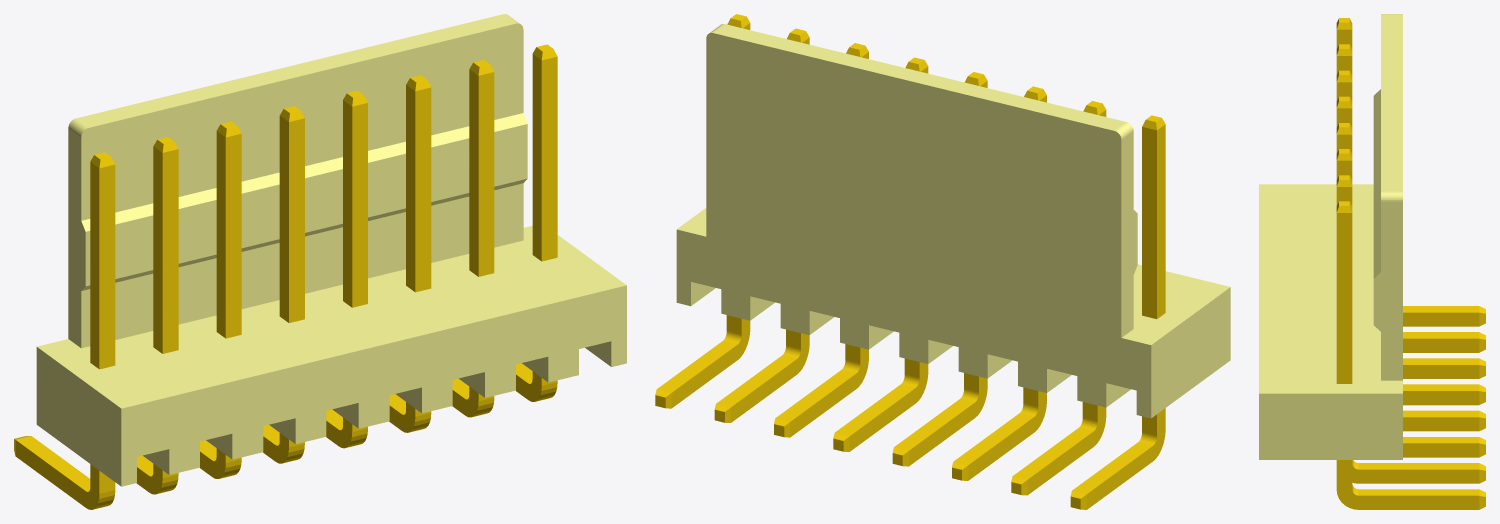
Rendered from DS1070-8MR (WF-8RA CONNFLY).obj.
3 renders of one model, left to right at view 1: azimuth 30°, elevation 25°; view 2: azimuth 150°, elevation 25°; view 3: azimuth 270°, elevation 25°, orthographic. The views are drawn at different scales.
Parts seen in each view (by area): view 1: DS1070-8MR_(WF-8RA_CONNFLY); view 2: DS1070-8MR_(WF-8RA_CONNFLY); view 3: DS1070-8MR_(WF-8RA_CONNFLY).
Part boxes in pixels (<box>): DS1070-8MR_(WF-8RA_CONNFLY): <box>14,14,626,509</box>; DS1070-8MR_(WF-8RA_CONNFLY): <box>655,14,1230,509</box>; DS1070-8MR_(WF-8RA_CONNFLY): <box>1259,14,1485,509</box>.
Size of the model in its own units: 0.0188 by 0.0131 by 0.00862.
